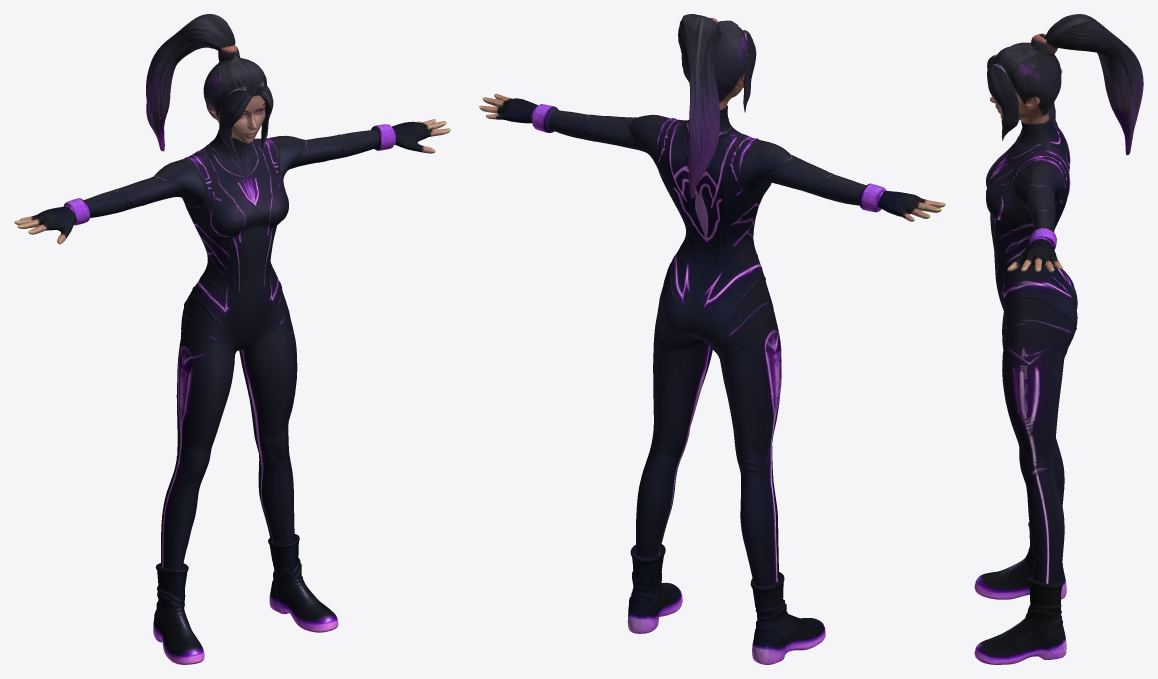
Rendered from oracle-c2-mesh.glb.
3 views of the same model, side by side, from view 1: azimuth 30°, elevation 25°; view 2: azimuth 150°, elevation 25°; view 3: azimuth 270°, elevation 25° (orthographic). The views are drawn at different scales.
Parts seen in each view (by area): view 1: Mesh_0; view 2: Mesh_0; view 3: Mesh_0.
Part boxes in pixels (x1,y1,x2,y2): Mesh_0: [14, 14, 450, 664]; Mesh_0: [479, 14, 945, 664]; Mesh_0: [974, 14, 1143, 664].
Bounding box in the file's own units: 1.43 × 1.9 × 0.4785.
Materials: 1 (1 with a texture image).
